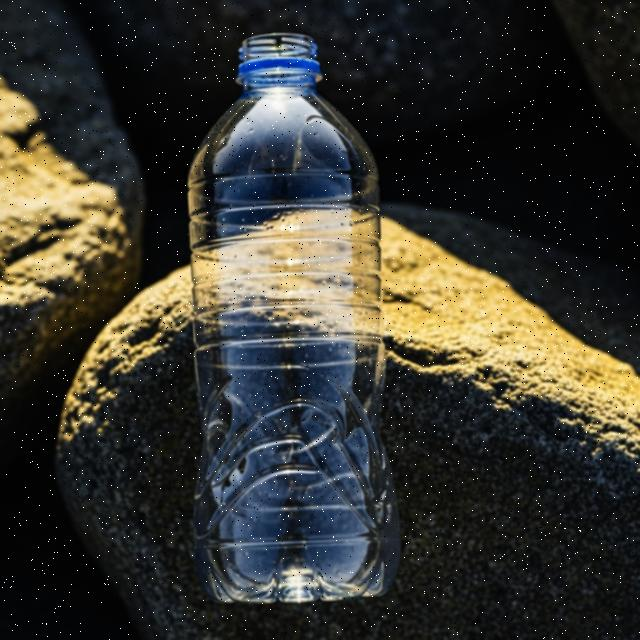plastic: (176, 29, 402, 608)
